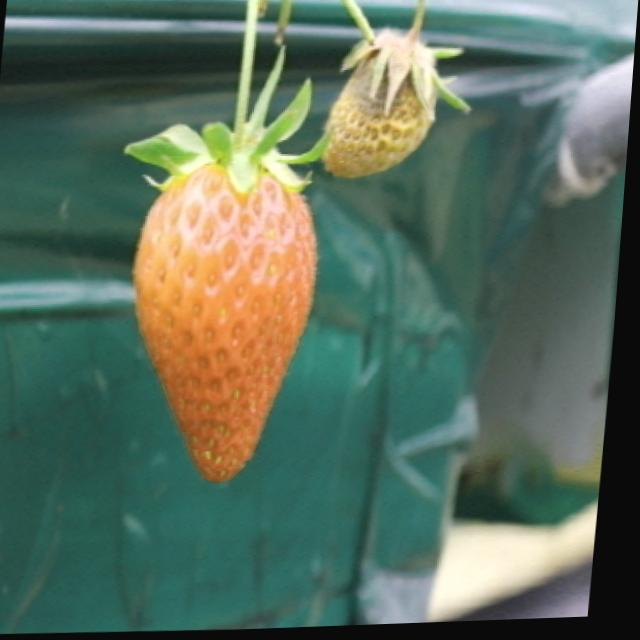Gray Mold: (323, 24, 438, 181)
